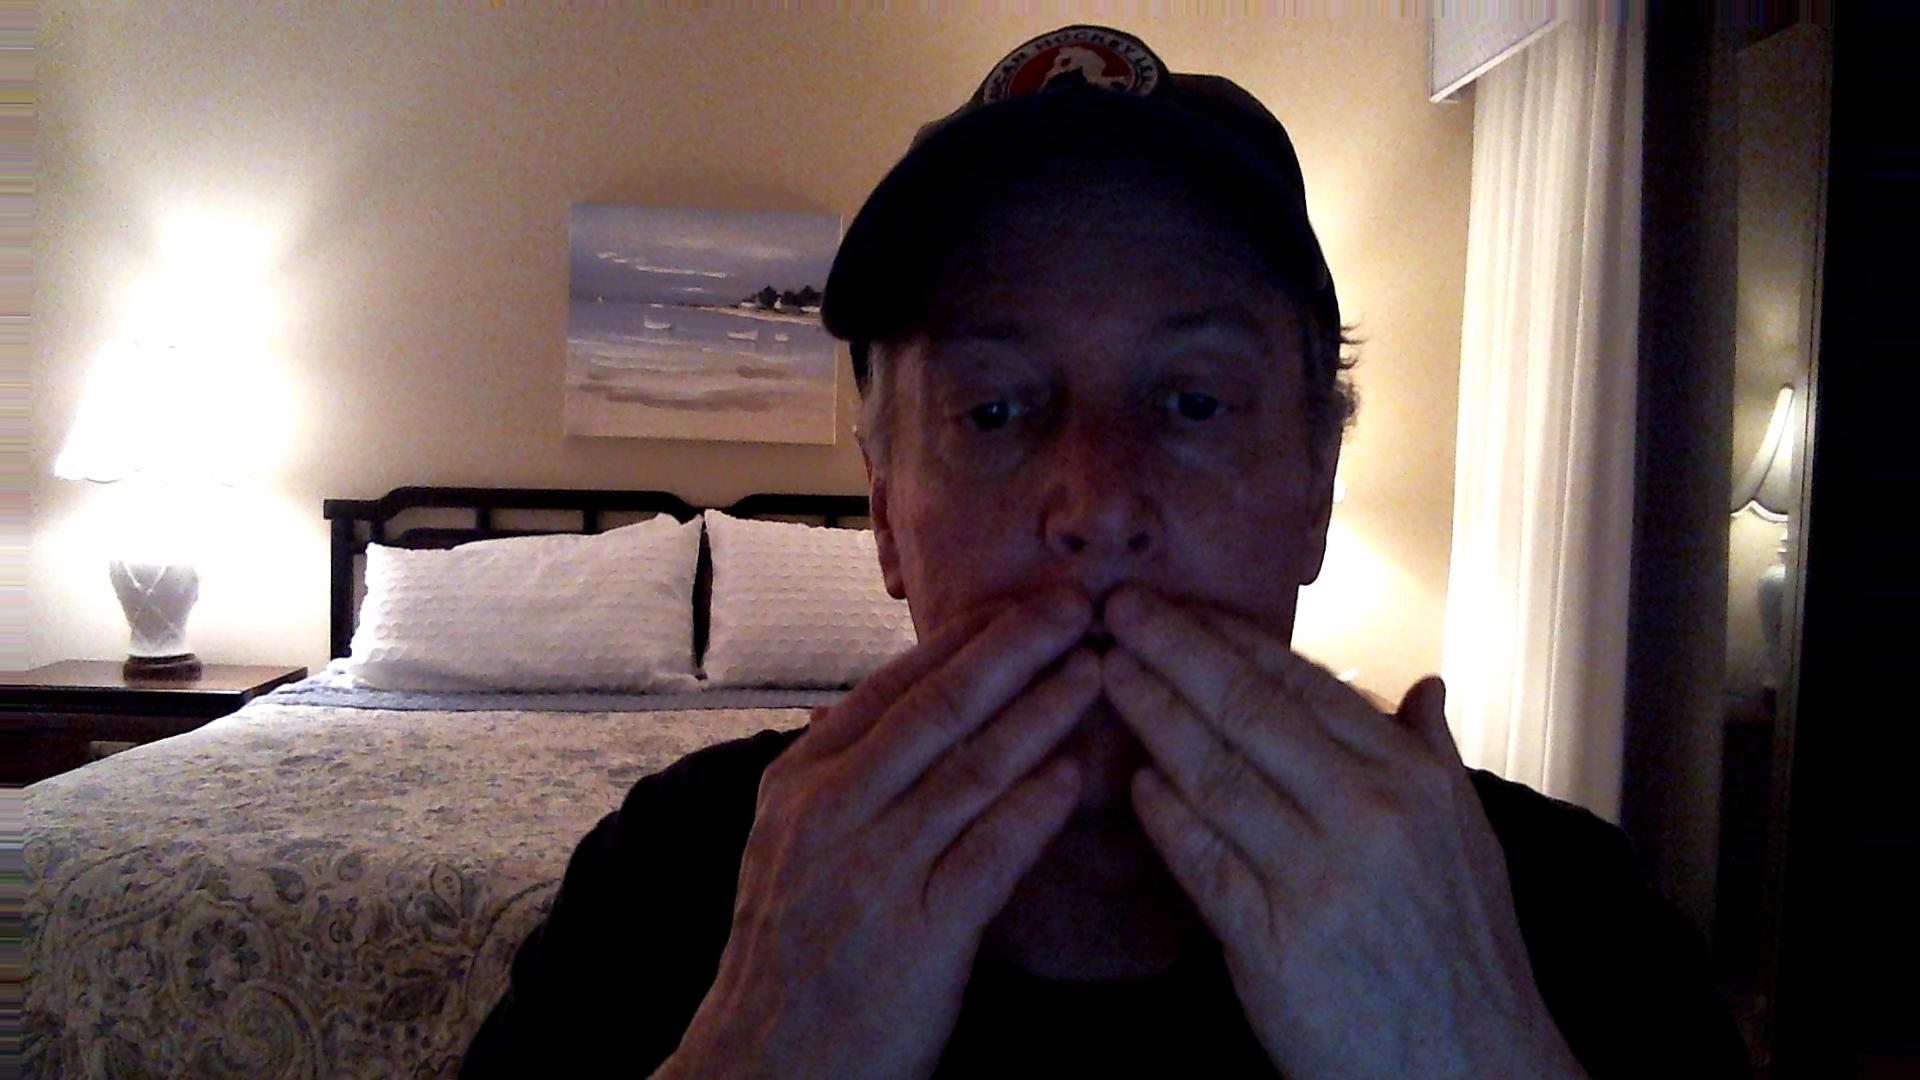Thank You: (676, 572, 1601, 1034)
